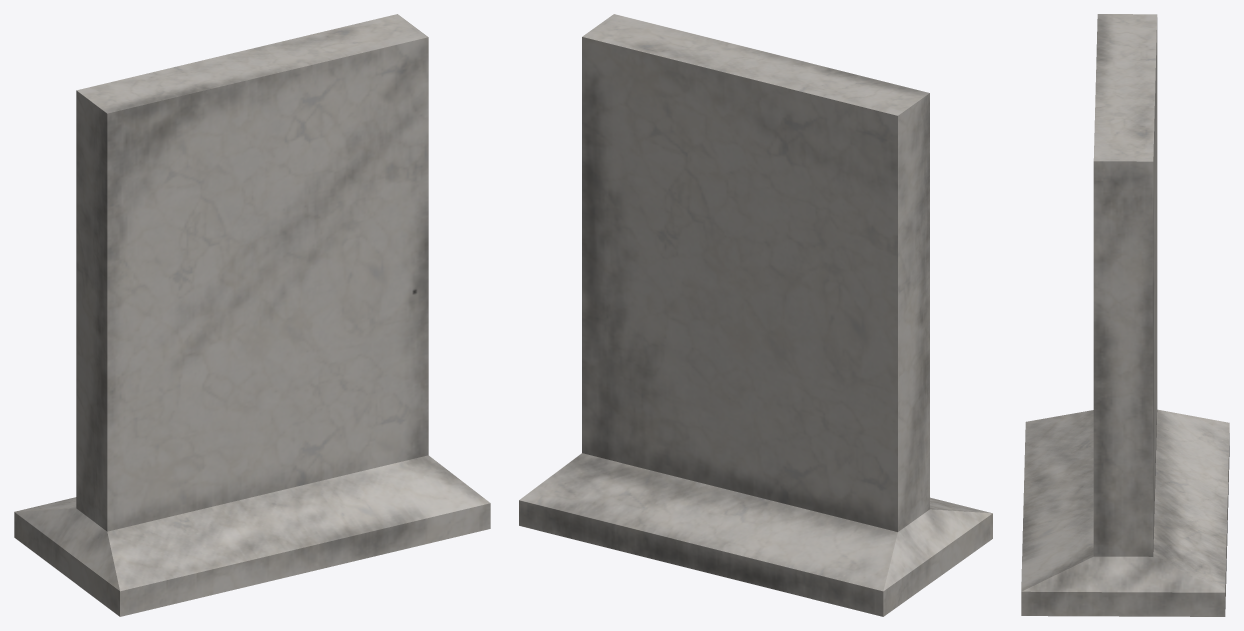
File: lapida_1_1UVM.fbx
The picture shows the model from 3 angles, left to right: view 1: azimuth 30°, elevation 25°; view 2: azimuth 150°, elevation 25°; view 3: azimuth 270°, elevation 25°; orthographic projection. The views are drawn at different scales.
Parts seen in each view (by area): view 1: lapida_1; view 2: lapida_1; view 3: lapida_1.
Boxes of the visible parts, x1,y1,x2,y2 form: lapida_1: [14, 14, 490, 616]; lapida_1: [519, 14, 992, 616]; lapida_1: [1021, 14, 1229, 616].
Size of the model in its own units: 101 by 122 by 51.86.
